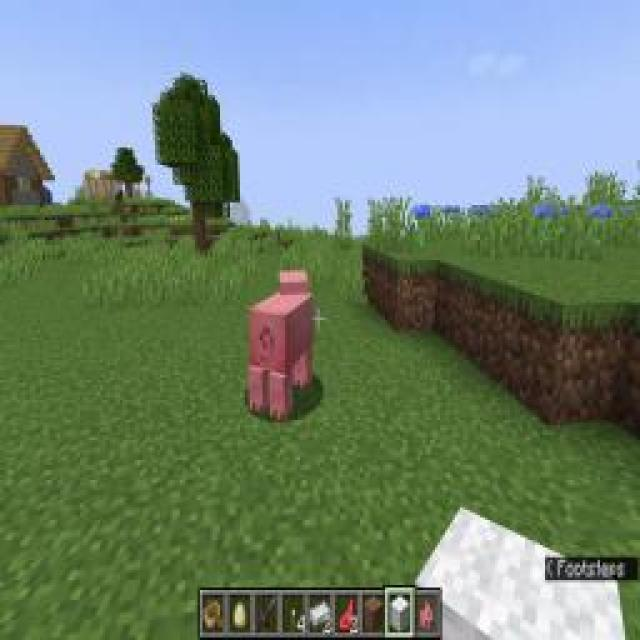Pig: (247, 264, 315, 424)
